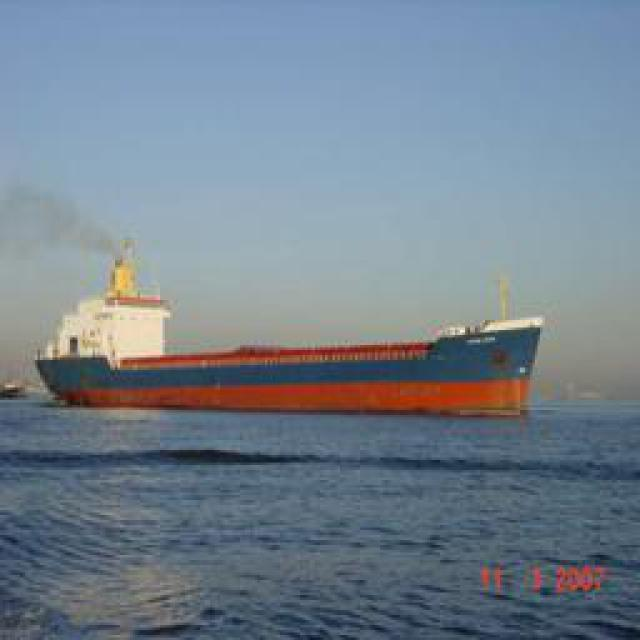Ship: (40, 244, 568, 417)
